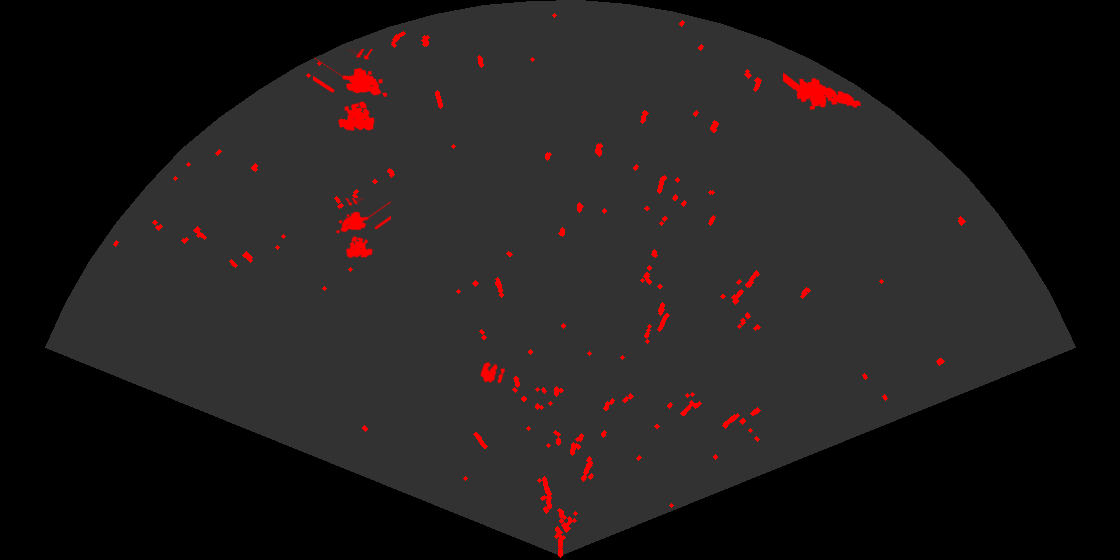ball: (479, 360, 507, 385)
cage: (313, 49, 389, 133), (334, 198, 391, 260)
frogman: (783, 71, 863, 112)
